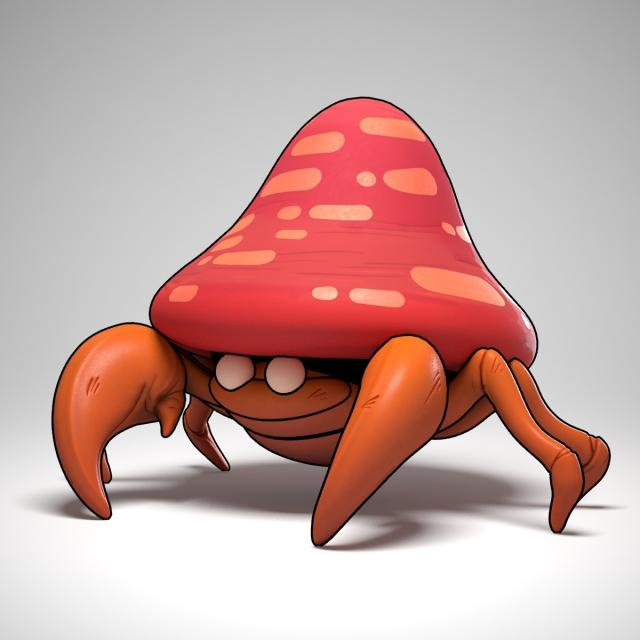Parasect: (98, 90, 543, 515)
